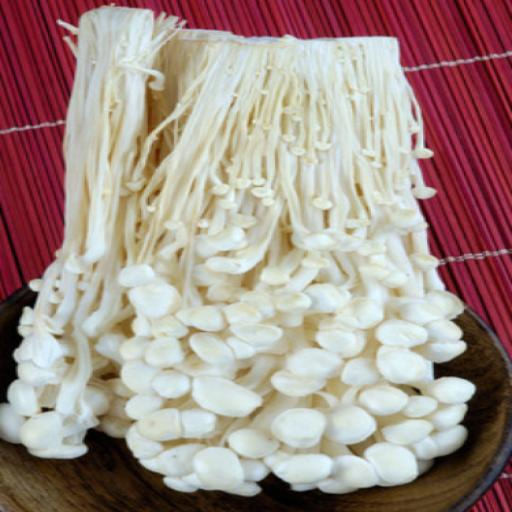Enoki Mushroom: (172, 24, 482, 496), (0, 0, 155, 465)
